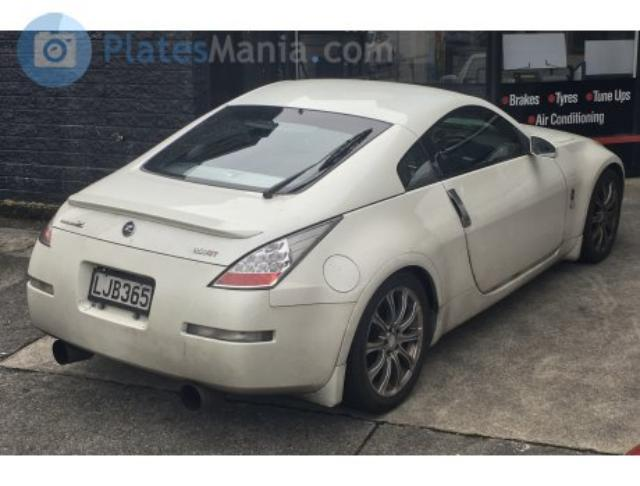Rego: (88, 268, 154, 315)
